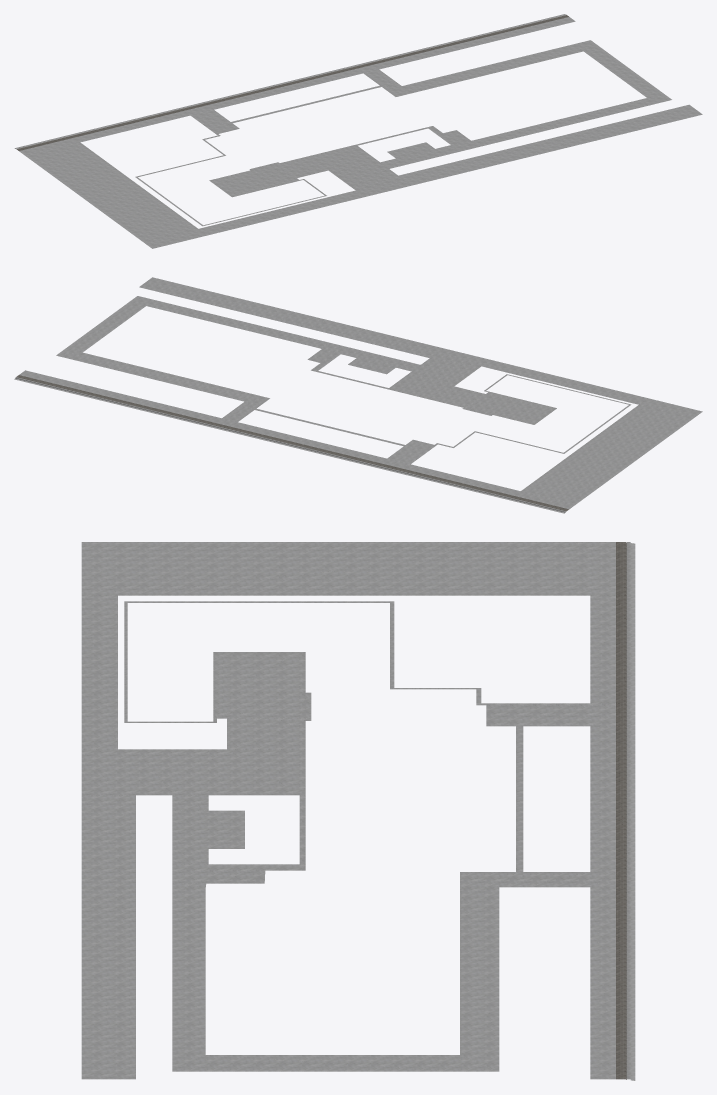
Rendered from envSidewalk.fbx.
The picture shows the model from 3 angles, top to bottom: view 1: azimuth 30°, elevation 25°; view 2: azimuth 150°, elevation 25°; view 3: azimuth 270°, elevation 25°; orthographic projection. The views are drawn at different scales.
Parts seen in each view (by area): view 1: envSidewalk; view 2: envSidewalk; view 3: envSidewalk.
Part boxes in pixels (x1,y1,x2,y2): envSidewalk: (14,14,702,248); envSidewalk: (14,277,702,513); envSidewalk: (81,542,635,1080).
Size of the model in its own units: 12679 by 17.36 by 5522.
2 materials, 2 textured.
